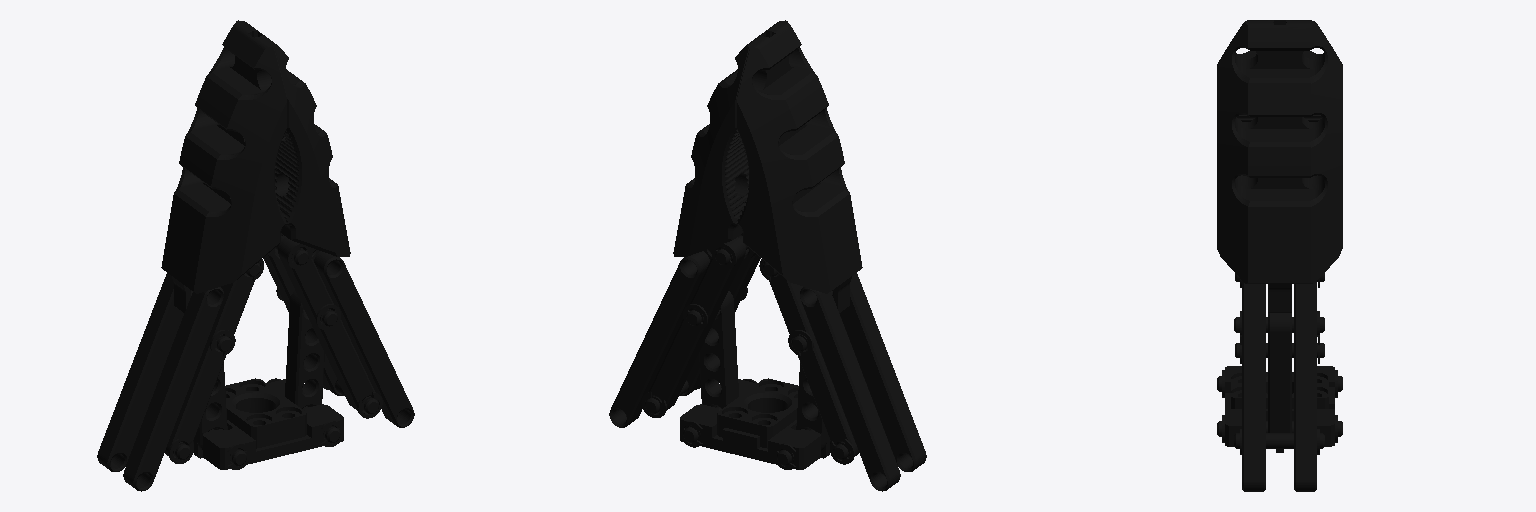
robot.urdf — grip:
<?xml version='1.0' encoding='utf-8'?>
<robot name="grip">
  <material name="silver">
    <color rgba="0.116 0.116 0.116 1.000"/>
  </material>
  <link name="base_link">
    <inertial>
      <origin xyz="2.874382630330837e-05 0.00032300640755650897 0.07413755373578114" rpy="0 0 0" />
      <mass value="0.9543325148196851" />
      <inertia ixx="0.001263" iyy="0.001263" izz="0.001263" ixy="0.0" iyz="0.0" ixz="0.0" />
    </inertial>
    <visual>
      <origin xyz="0 0 0" rpy="0 0 0" />
      <geometry>
        <mesh filename="package://aquarm_description/meshes/aquarm_gripper/base_link.stl" scale="0.001 0.001 0.001" />
      </geometry>
      <material name="silver" />
    </visual>
    <collision>
      <origin xyz="0 0 0" rpy="0 0 0" />
      <geometry>
        <mesh filename="package://aquarm_description/meshes/aquarm_gripper/base_link.stl" scale="0.001 0.001 0.001" />
      </geometry>
    </collision>
  </link>
  <link name="link1_1">
    <inertial>
      <origin xyz="1.2981653403686188e-05 0.0001181972010493529 0.0031554392381963337" rpy="0 0 0" />
      <mass value="0.01637046903305581" />
      <inertia ixx="4e-06" iyy="4e-06" izz="4e-06" ixy="0.0" iyz="0.0" ixz="0.0" />
    </inertial>
    <visual>
      <origin xyz="0.0 0.0 -0.13" rpy="0 0 0" />
      <geometry>
        <mesh filename="package://aquarm_description/meshes/aquarm_gripper/link1_1.stl" scale="0.001 0.001 0.001" />
      </geometry>
      <material name="silver" />
    </visual>
    <collision>
      <origin xyz="0.0 0.0 -0.13" rpy="0 0 0" />
      <geometry>
        <mesh filename="package://aquarm_description/meshes/aquarm_gripper/link1_1.stl" scale="0.001 0.001 0.001" />
      </geometry>
    </collision>
  </link>
  <link name="link2_1">
    <inertial>
      <origin xyz="-0.0008777134187768348 -3.9470801397731e-17 0.014722695965064814" rpy="0 0 0" />
      <mass value="0.0031056680023130606" />
      <inertia ixx="5e-07" iyy="5e-07" izz="5e-07" ixy="0.0" iyz="0.0" ixz="0.0" />
    </inertial>
    <visual>
      <origin xyz="0.0135 0.0 -0.133" rpy="0 0 0" />
      <geometry>
        <mesh filename="package://aquarm_description/meshes/aquarm_gripper/link2_1.stl" scale="0.001 0.001 0.001" />
      </geometry>
      <material name="silver" />
    </visual>
    <collision>
      <origin xyz="0.0135 0.0 -0.133" rpy="0 0 0" />
      <geometry>
        <mesh filename="package://aquarm_description/meshes/aquarm_gripper/link2_1.stl" scale="0.001 0.001 0.001" />
      </geometry>
    </collision>
  </link>
  <link name="link3_1">
    <inertial>
      <origin xyz="0.010342488380327412 2.175879177239104e-05 0.023354454080433962" rpy="0 0 0" />
      <mass value="0.016289085412063534" />
      <inertia ixx="5e-06" iyy="5e-06" izz="5e-06" ixy="0.0" iyz="0.0" ixz="0.0" />
    </inertial>
    <visual>
      <origin xyz="0.027165 -0.0 -0.135976" rpy="0 0 0" />
      <geometry>
        <mesh filename="package://aquarm_description/meshes/aquarm_gripper/link3_1.stl" scale="0.001 0.001 0.001" />
      </geometry>
      <material name="silver" />
    </visual>
    <collision>
      <origin xyz="0.027165 -0.0 -0.135976" rpy="0 0 0" />
      <geometry>
        <mesh filename="package://aquarm_description/meshes/aquarm_gripper/link3_1.stl" scale="0.001 0.001 0.001" />
      </geometry>
    </collision>
  </link>
  <link name="link5_1">
    <inertial>
      <origin xyz="0.008267195016849185 -3.449215270715125e-06 0.026908359995210657" rpy="0 0 0" />
      <mass value="0.04694001446420545" />
      <inertia ixx="1.4e-05" iyy="1.4e-05" izz="1.4e-05" ixy="0.0" iyz="0.0" ixz="0.0" />
    </inertial>
    <visual>
      <origin xyz="0.017314 -0.0 -0.175695" rpy="0 0 0" />
      <geometry>
        <mesh filename="package://aquarm_description/meshes/aquarm_gripper/link5_1.stl" scale="0.001 0.001 0.001" />
      </geometry>
      <material name="silver" />
    </visual>
    <collision>
      <origin xyz="0.017314 -0.0 -0.175695" rpy="0 0 0" />
      <geometry>
        <mesh filename="package://aquarm_description/meshes/aquarm_gripper/link5_1.stl" scale="0.001 0.001 0.001" />
      </geometry>
    </collision>
  </link>
  <link name="link4_1">
    <inertial>
      <origin xyz="0.01012132318758065 5.766794515866274e-17 0.02285987963395339" rpy="0 0 0" />
      <mass value="0.009625997784129314" />
      <inertia ixx="2e-06" iyy="2e-06" izz="2e-06" ixy="0.0" iyz="0.0" ixz="0.0" />
    </inertial>
    <visual>
      <origin xyz="0.037557 -0.0 -0.129976" rpy="0 0 0" />
      <geometry>
        <mesh filename="package://aquarm_description/meshes/aquarm_gripper/link4_1.stl" scale="0.001 0.001 0.001" />
      </geometry>
      <material name="silver" />
    </visual>
    <collision>
      <origin xyz="0.037557 -0.0 -0.129976" rpy="0 0 0" />
      <geometry>
        <mesh filename="package://aquarm_description/meshes/aquarm_gripper/link4_1.stl" scale="0.001 0.001 0.001" />
      </geometry>
    </collision>
  </link>
  <link name="link6_1">
    <inertial>
      <origin xyz="0.0008777134187761132 -4.4007813018918896e-17 0.01472269596506487" rpy="0 0 0" />
      <mass value="0.0031056680023130606" />
      <inertia ixx="5e-07" iyy="5e-07" izz="5e-07" ixy="0.0" iyz="0.0" ixz="0.0" />
    </inertial>
    <visual>
      <origin xyz="-0.0135 0.0 -0.133" rpy="0 0 0" />
      <geometry>
        <mesh filename="package://aquarm_description/meshes/aquarm_gripper/link6_1.stl" scale="0.001 0.001 0.001" />
      </geometry>
      <material name="silver" />
    </visual>
    <collision>
      <origin xyz="-0.0135 0.0 -0.133" rpy="0 0 0" />
      <geometry>
        <mesh filename="package://aquarm_description/meshes/aquarm_gripper/link6_1.stl" scale="0.001 0.001 0.001" />
      </geometry>
    </collision>
  </link>
  <link name="link7_1">
    <inertial>
      <origin xyz="-0.010342488380328928 -2.1758791772291002e-05 0.023354454080433962" rpy="0 0 0" />
      <mass value="0.016289085412063534" />
      <inertia ixx="5e-06" iyy="5e-06" izz="5e-06" ixy="0.0" iyz="0.0" ixz="0.0" />
    </inertial>
    <visual>
      <origin xyz="-0.027165 -0.0 -0.135976" rpy="0 0 0" />
      <geometry>
        <mesh filename="package://aquarm_description/meshes/aquarm_gripper/link7_1.stl" scale="0.001 0.001 0.001" />
      </geometry>
      <material name="silver" />
    </visual>
    <collision>
      <origin xyz="-0.027165 -0.0 -0.135976" rpy="0 0 0" />
      <geometry>
        <mesh filename="package://aquarm_description/meshes/aquarm_gripper/link7_1.stl" scale="0.001 0.001 0.001" />
      </geometry>
    </collision>
  </link>
  <link name="link9_1">
    <inertial>
      <origin xyz="-0.008267195016851357 3.4492152707747913e-06 0.026908359995210768" rpy="0 0 0" />
      <mass value="0.04694001446420545" />
      <inertia ixx="1.4e-05" iyy="1.4e-05" izz="1.4e-05" ixy="0.0" iyz="0.0" ixz="0.0" />
    </inertial>
    <visual>
      <origin xyz="-0.017314 -0.0 -0.175695" rpy="0 0 0" />
      <geometry>
        <mesh filename="package://aquarm_description/meshes/aquarm_gripper/link9_1.stl" scale="0.001 0.001 0.001" />
      </geometry>
      <material name="silver" />
    </visual>
    <collision>
      <origin xyz="-0.017314 -0.0 -0.175695" rpy="0 0 0" />
      <geometry>
        <mesh filename="package://aquarm_description/meshes/aquarm_gripper/link9_1.stl" scale="0.001 0.001 0.001" />
      </geometry>
    </collision>
  </link>
  <link name="link8_1">
    <inertial>
      <origin xyz="-0.010121323214474991 5.271210612159015e-17 0.022859879622045998" rpy="0 0 0" />
      <mass value="0.009625997784129314" />
      <inertia ixx="2e-06" iyy="2e-06" izz="2e-06" ixy="0.0" iyz="0.0" ixz="0.0" />
    </inertial>
    <visual>
      <origin xyz="-0.037557 -0.0 -0.129976" rpy="0 0 0" />
      <geometry>
        <mesh filename="package://aquarm_description/meshes/aquarm_gripper/link8_1.stl" scale="0.001 0.001 0.001" />
      </geometry>
      <material name="silver" />
    </visual>
    <collision>
      <origin xyz="-0.037557 -0.0 -0.129976" rpy="0 0 0" />
      <geometry>
        <mesh filename="package://aquarm_description/meshes/aquarm_gripper/link8_1.stl" scale="0.001 0.001 0.001" />
      </geometry>
    </collision>
  </link>
  <joint name="slide1" type="fixed">
    <origin xyz="0.0 0.0 0.13" rpy="0 0 0" />
    <parent link="base_link" />
    <child link="link1_1" />
    <axis xyz="0.0 0.0 1.0" />
  </joint>
  <!-- Gripper drive joint: 0 (closed) to 1 rad (fully open). The other finger joints mimic it. -->
  <joint name="joint1" type="revolute">
    <origin xyz="-0.0135 0.0 0.003" rpy="0 0 0" />
    <parent link="link1_1" />
    <child link="link2_1" />
    <axis xyz="-0.0 -1.0 0.0" />
    <limit lower="0.0" upper="1.0" effort="10" velocity="100" />
  </joint>
  <joint name="joint2" type="revolute">
    <origin xyz="-0.027165 0.0 0.135976" rpy="0 0 0" />
    <parent link="base_link" />
    <child link="link3_1" />
    <axis xyz="-0.0 -1.0 -0.0" />
    <limit lower="0.0" upper="1.0" effort="10" velocity="100" />
    <mimic joint="joint1" multiplier="1" offset="0" />
  </joint>
  <joint name="joint5" type="revolute">
    <origin xyz="-0.037557 0.0 0.129976" rpy="0 0 0" />
    <parent link="base_link" />
    <child link="link4_1" />
    <axis xyz="-0.0 -1.0 -0.0" />
    <limit lower="0.0" upper="1.0" effort="10" velocity="100" />
    <mimic joint="joint1" multiplier="1" offset="0" />
  </joint>
  <joint name="joint6" type="revolute">
    <origin xyz="0.020243 0.0 0.045719" rpy="0 0 0" />
    <parent link="link4_1" />
    <child link="link5_1" />
    <axis xyz="-0.0 -1.0 -0.0" />
    <limit lower="-1.0" upper="0.0" effort="10" velocity="100" />
    <mimic joint="joint1" multiplier="-1" offset="0" />
  </joint>
  <joint name="joint7" type="revolute">
    <origin xyz="0.0135 0.0 0.003" rpy="0 0 0" />
    <parent link="link1_1" />
    <child link="link6_1" />
    <axis xyz="0.0 1.0 0.0" />
    <limit lower="0.0" upper="1.0" effort="10" velocity="100" />
    <mimic joint="joint1" multiplier="1" offset="0" />
  </joint>
  <joint name="joint8" type="revolute">
    <origin xyz="0.027165 0.0 0.135976" rpy="0 0 0" />
    <parent link="base_link" />
    <child link="link7_1" />
    <axis xyz="0.0 -1.0 -0.0" />
    <limit lower="-1.0" upper="0.0" effort="10" velocity="100" />
    <mimic joint="joint1" multiplier="-1" offset="0" />
  </joint>
  <joint name="joint11" type="revolute">
    <origin xyz="0.037557 0.0 0.129976" rpy="0 0 0" />
    <parent link="base_link" />
    <child link="link8_1" />
    <axis xyz="0.0 -1.0 -0.0" />
    <limit lower="-1.0" upper="0.0" effort="10" velocity="100" />
    <mimic joint="joint1" multiplier="-1" offset="0" />
  </joint>
  <joint name="joint12" type="revolute">
    <origin xyz="-0.020243 0.0 0.045719" rpy="0 0 0" />
    <parent link="link8_1" />
    <child link="link9_1" />
    <axis xyz="0.0 -1.0 -0.0" />
    <limit lower="0.0" upper="1.0" effort="10" velocity="100" />
    <mimic joint="joint1" multiplier="1" offset="0" />
  </joint>
</robot>

--- What the picture shows (computed from the rendered views, not written in the file) ---
3 views of the same robot in one strip: view 1: azimuth 30°, elevation 25°; view 2: azimuth 150°, elevation 25°; view 3: azimuth 270°, elevation 25° (orthographic).
Robot: grip — 10 links, 9 joints (8 revolute, 1 fixed); root link base_link; default pose: all joints at 0.
Visible links, largest first — view 1: link5_1, link4_1, link9_1, link1_1, link7_1, link8_1, link3_1, link6_1, link2_1; view 2: link5_1, link4_1, link9_1, link1_1, link7_1, link8_1, link3_1, link6_1, link2_1; view 3: link9_1, link8_1, link1_1, link6_1, link7_1, link5_1.
Boxes of the visible links, x1=… form: link5_1: x1=161, y1=21, x2=286, y2=312; link4_1: x1=97, y1=273, x2=223, y2=491; link9_1: x1=232, y1=20, x2=350, y2=260; link1_1: x1=203, y1=378, x2=343, y2=469; link7_1: x1=263, y1=235, x2=382, y2=418; link8_1: x1=312, y1=250, x2=414, y2=427; link3_1: x1=165, y1=259, x2=263, y2=463; link6_1: x1=285, y1=291, x2=324, y2=408; link2_1: x1=193, y1=363, x2=227, y2=458; link5_1: x1=737, y1=21, x2=862, y2=312; link4_1: x1=800, y1=273, x2=926, y2=491; link9_1: x1=673, y1=20, x2=790, y2=260; link1_1: x1=680, y1=378, x2=820, y2=469; link7_1: x1=641, y1=235, x2=760, y2=417; link8_1: x1=609, y1=250, x2=711, y2=427; link3_1: x1=759, y1=259, x2=858, y2=464; link6_1: x1=699, y1=291, x2=738, y2=408; link2_1: x1=796, y1=363, x2=830, y2=458; link9_1: x1=1217, y1=22, x2=1342, y2=312; link8_1: x1=1242, y1=281, x2=1316, y2=491; link1_1: x1=1217, y1=366, x2=1342, y2=446; link6_1: x1=1268, y1=313, x2=1291, y2=452; link7_1: x1=1234, y1=311, x2=1324, y2=454; link5_1: x1=1217, y1=20, x2=1342, y2=121.
Bounding box of the posed robot: 0.0811 × 0.032 × 0.1136 m (x, y, z).
Meshes: 10 distinct files referenced, 9 mesh visuals loaded (9 binary STL); not drawn: 1 (reference not matched to a file when rendering).
